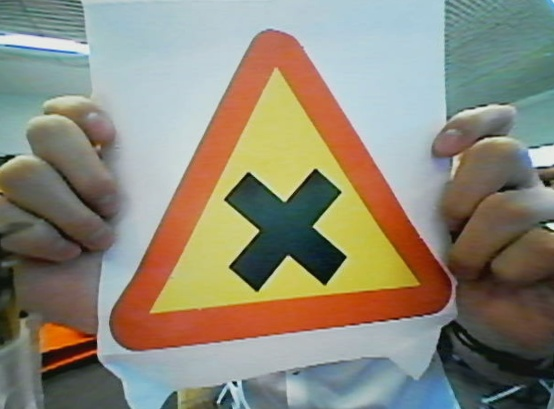junction: (107, 21, 462, 362)
